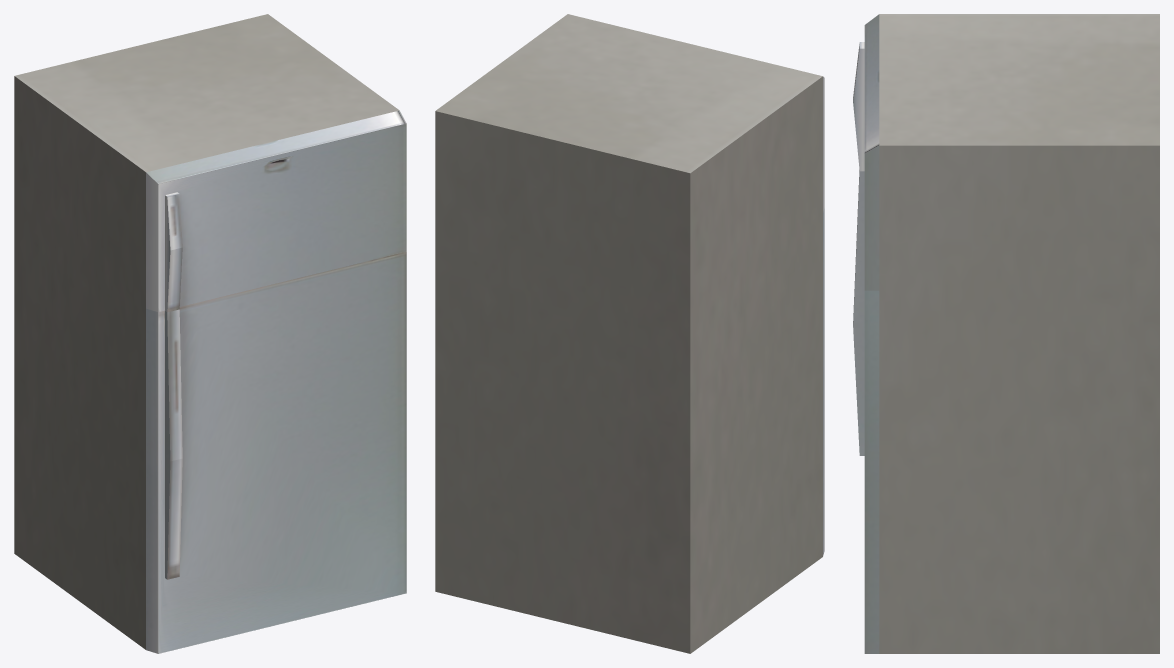
File: refrigerator.fbx
The picture shows the model from 3 angles, left to right: view 1: azimuth 30°, elevation 25°; view 2: azimuth 150°, elevation 25°; view 3: azimuth 270°, elevation 25°; orthographic projection. The views are drawn at different scales.
Parts seen in each view (by area): view 1: Refrigerator, FridgeDoor, FreezerDoor; view 2: Refrigerator, FridgeDoor; view 3: Refrigerator, FridgeDoor, FreezerDoor.
Part boxes in pixels (x1,y1,x2,y2): Refrigerator: [14, 14, 399, 649]; FridgeDoor: [146, 252, 406, 653]; FreezerDoor: [146, 110, 406, 312]; Refrigerator: [435, 14, 822, 653]; FridgeDoor: [823, 208, 824, 555]; Refrigerator: [879, 14, 1159, 653]; FridgeDoor: [853, 170, 879, 653]; FreezerDoor: [853, 14, 879, 290].
Bounding box in the file's own units: 1 × 1.8 × 0.9842.
5 materials, 5 textured.
